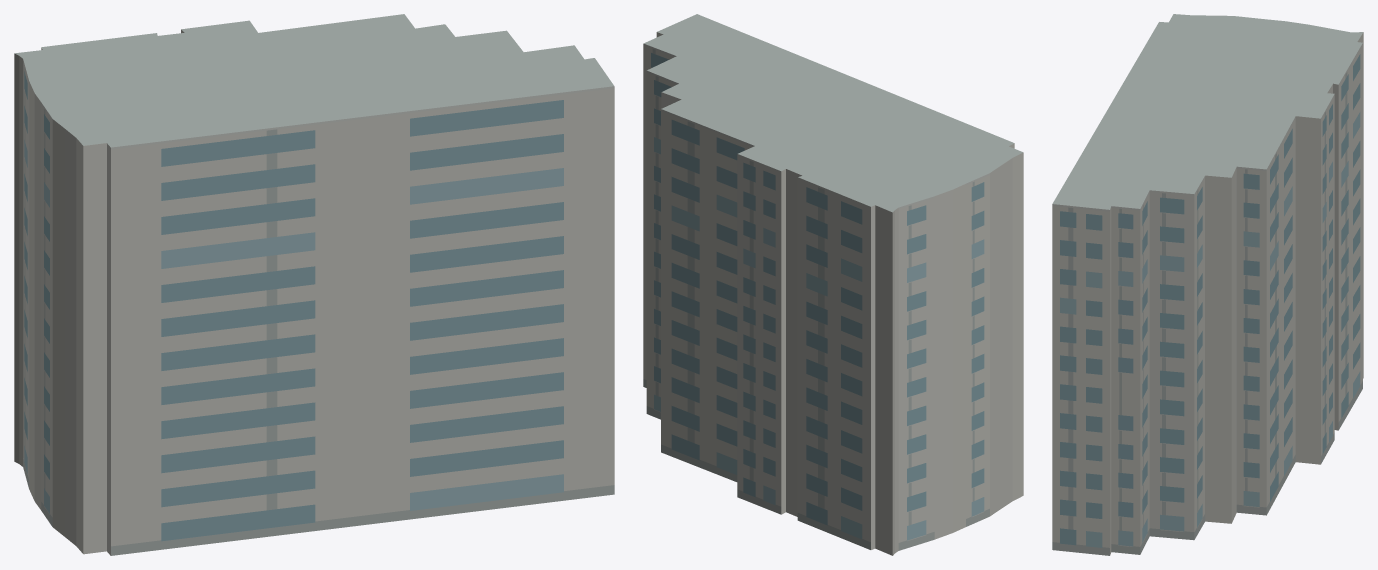
The model's file is survey-upis-32742824.glb.
The picture shows the model from 3 angles, left to right: view 1: azimuth 30°, elevation 25°; view 2: azimuth 150°, elevation 25°; view 3: azimuth 270°, elevation 25°; orthographic projection. The views are drawn at different scales.
Visible parts, largest first — view 1: survey-upis-32742824.tmp; view 2: survey-upis-32742824.tmp; view 3: survey-upis-32742824.tmp.
Boxes of the visible parts, x1,y1,x2,y2 form: survey-upis-32742824.tmp: [14, 14, 614, 555]; survey-upis-32742824.tmp: [643, 14, 1023, 555]; survey-upis-32742824.tmp: [1052, 14, 1363, 555].
Bounding box in the file's own units: 58.66 × 48.3 × 39.39.
